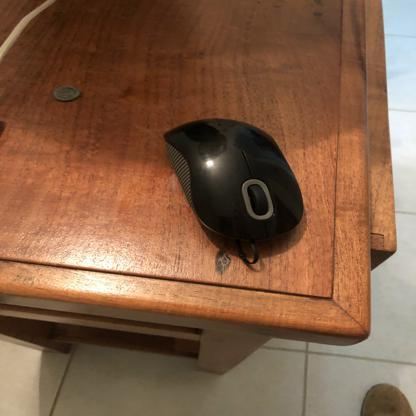mouse: (162, 107, 307, 265)
